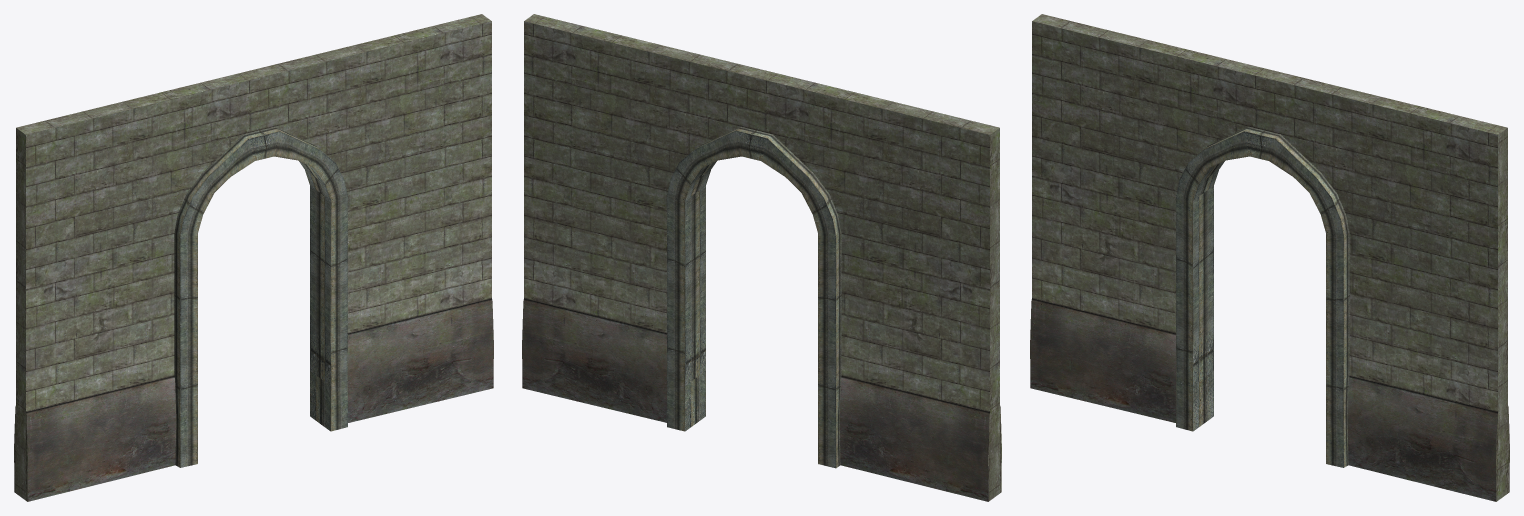
File: entryway_lod.fbx
3 views of the same model, side by side, from view 1: azimuth 30°, elevation 25°; view 2: azimuth 150°, elevation 25°; view 3: azimuth 330°, elevation 25° (orthographic).
Parts seen in each view (by area): view 1: Mesh Object; view 2: Mesh Object; view 3: Mesh Object.
Boxes of the visible parts, bbox=[...] form: Mesh Object: bbox=[14, 14, 493, 501]; Mesh Object: bbox=[522, 14, 1001, 501]; Mesh Object: bbox=[1030, 14, 1509, 501].
Bounding box in the file's own units: 4 × 3 × 0.3103.
